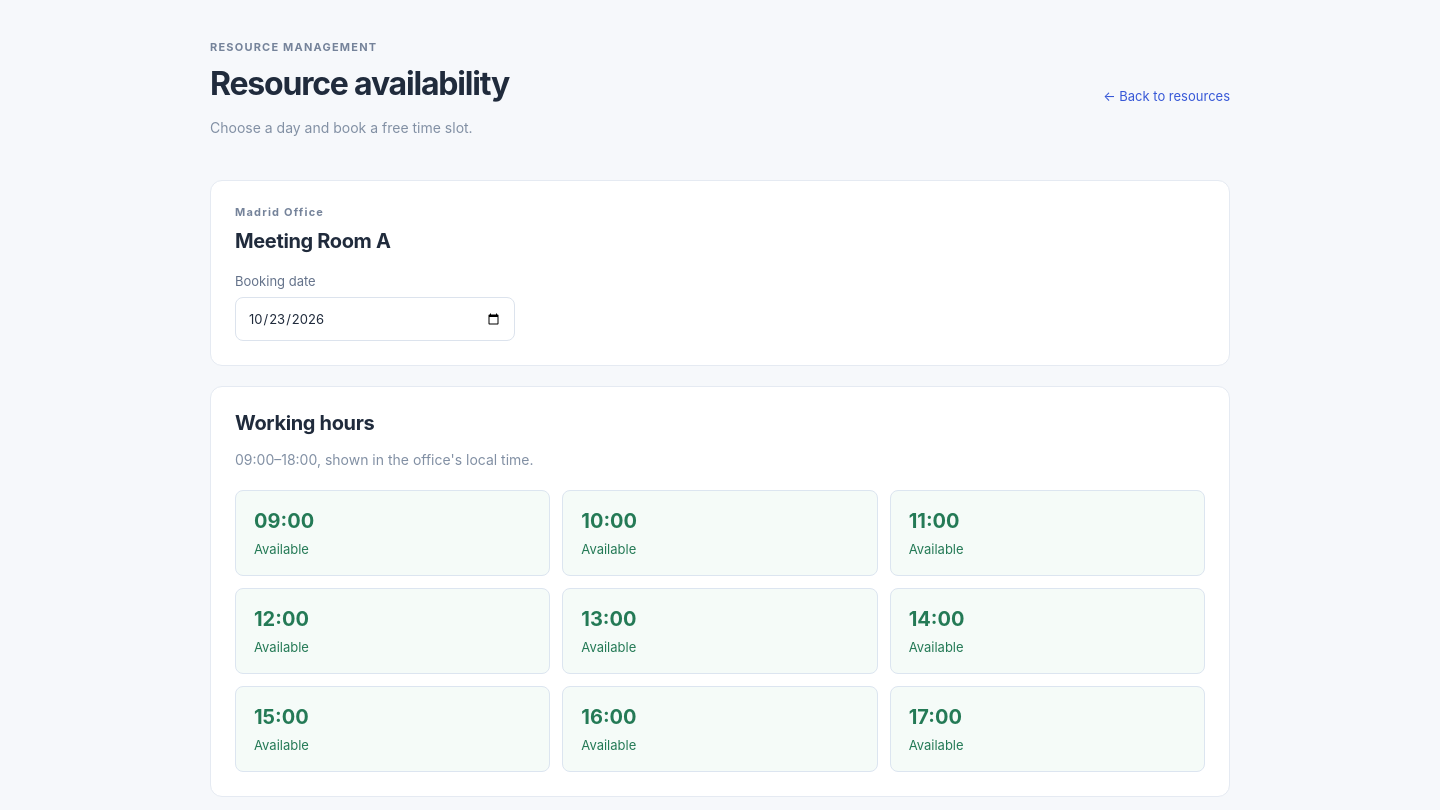
it: AvailabilityView › shows a success popup after a booking is created
This screenshot has width=1440, height=810.
Click the button with class "slot" showing "09:00 Available": (284, 521) [235,490,550,576]
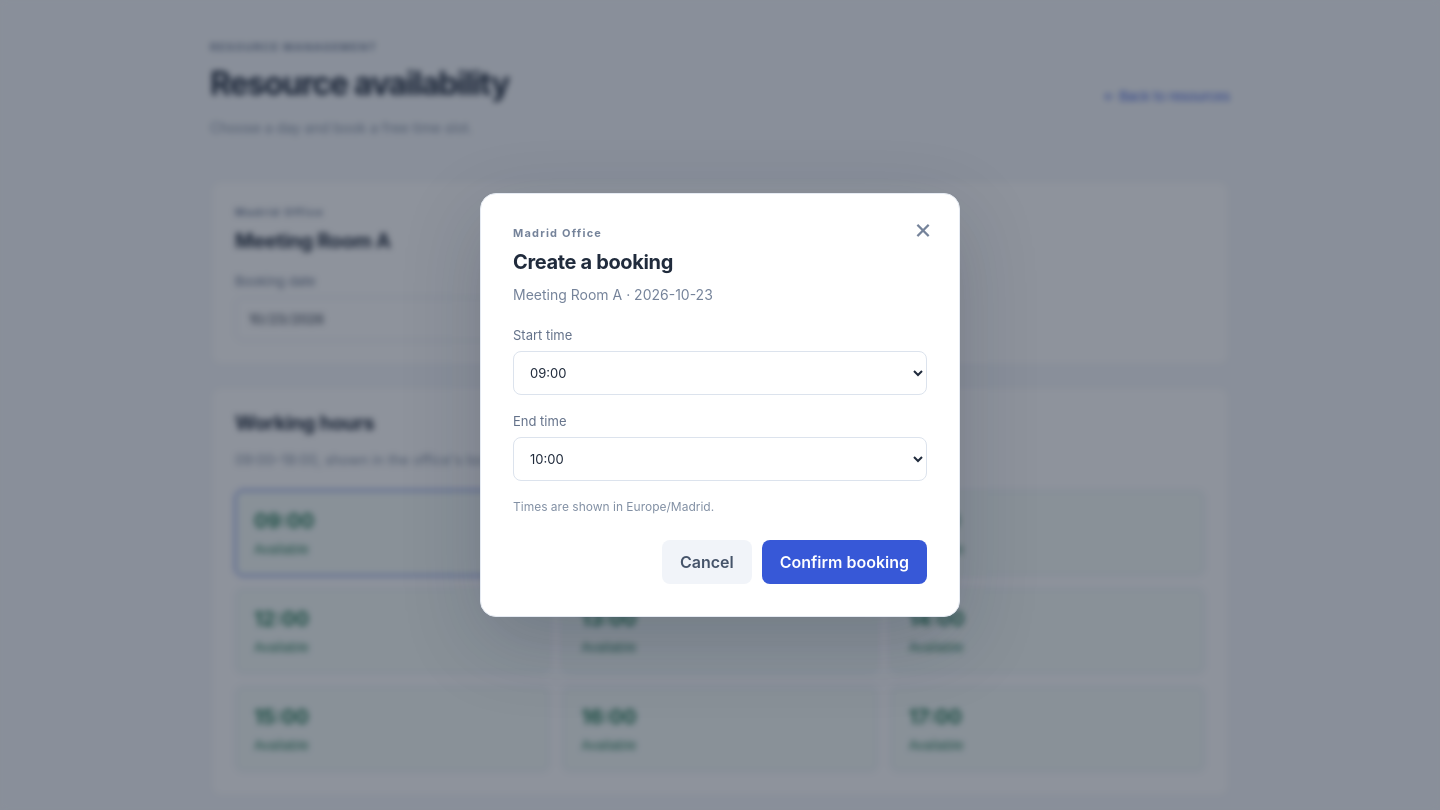
Expected: the button "Confirm booking" is shown
Click the button "Confirm booking": (844, 562) [762,540,927,584]
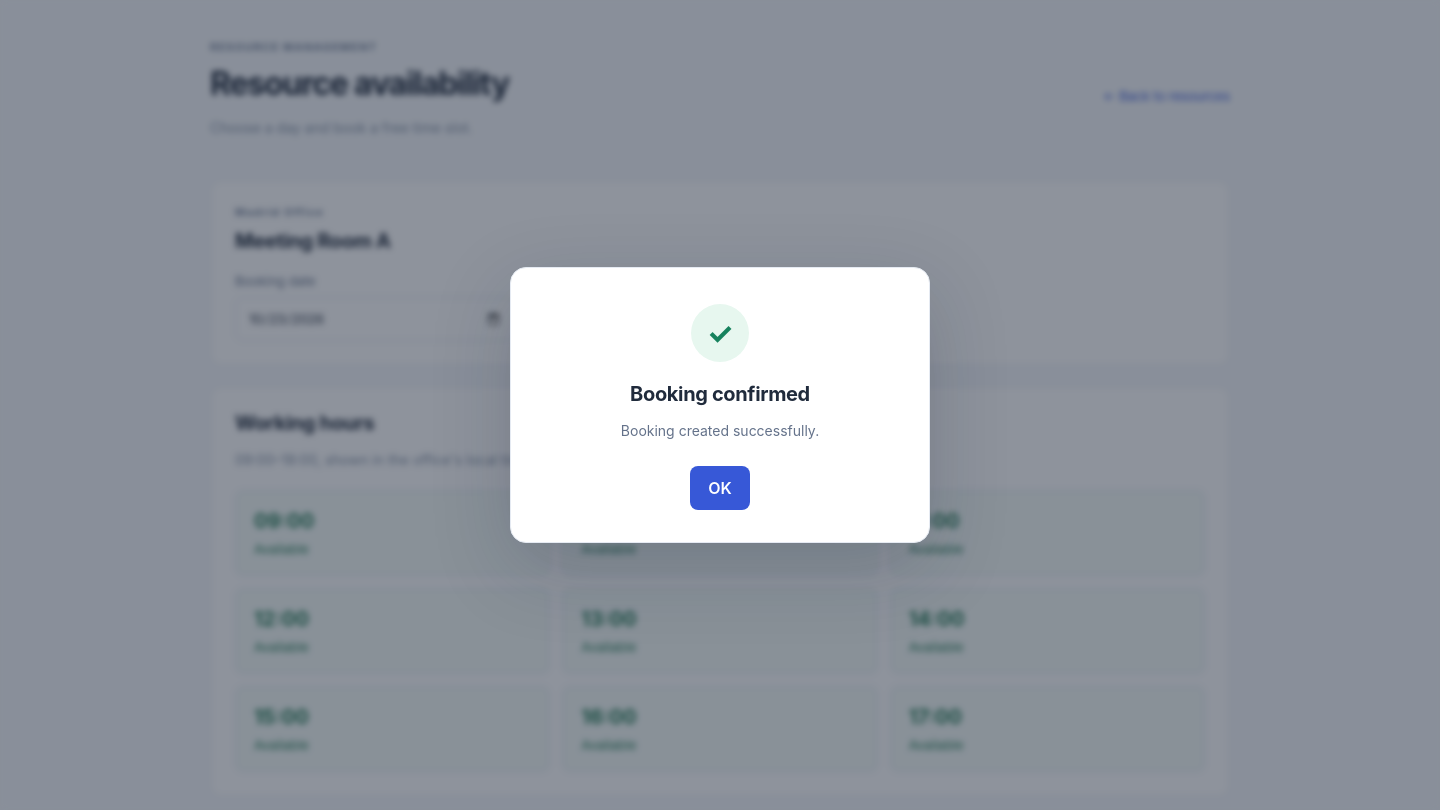
Expected: the text "Booking confirmed" is shown, [630,382,810,406]
Expected: the text "Booking created successfully." is shown, [621,422,819,439]
